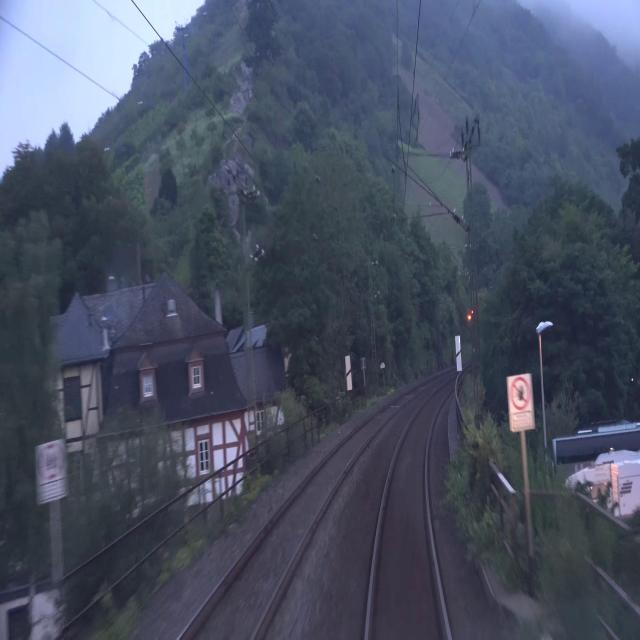rail-track: (182, 378, 434, 639), (370, 379, 456, 639)
